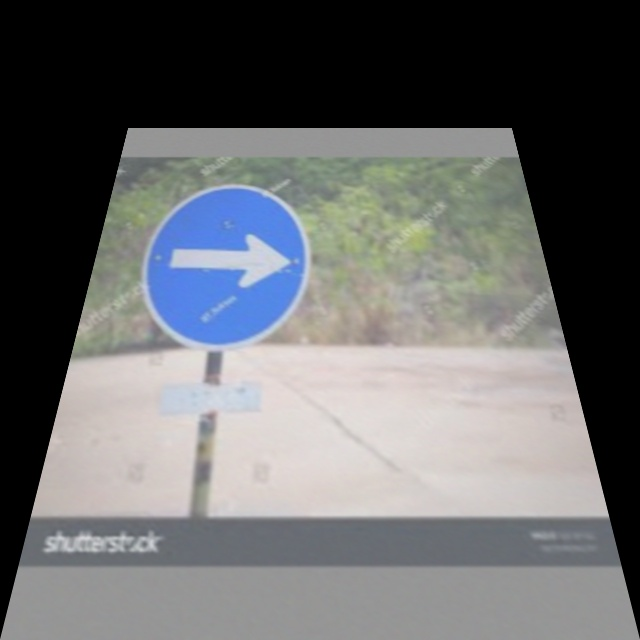Compulsory_Turn_Right: (133, 182, 311, 350)
